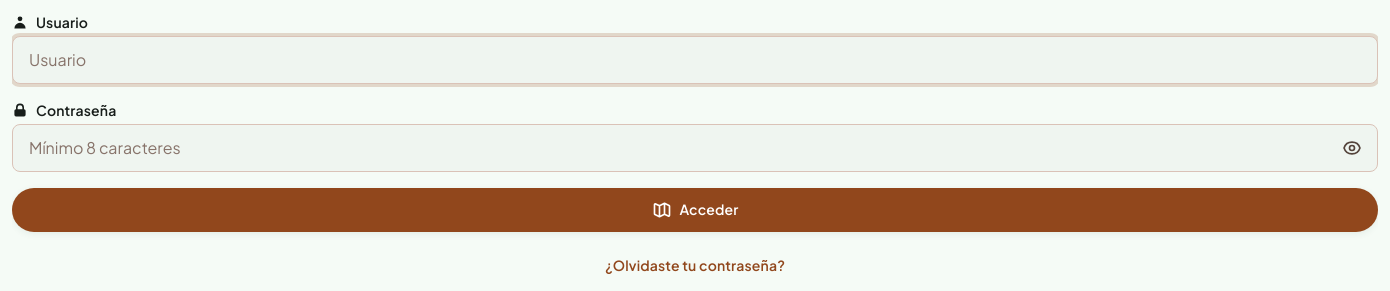
Test: LoginForm › permite mostrar/ocultar contraseña
Type "password123" into the password field with placeholder "Mínimo 8 caracteres" at (695, 148), box [12,124,1378,172]
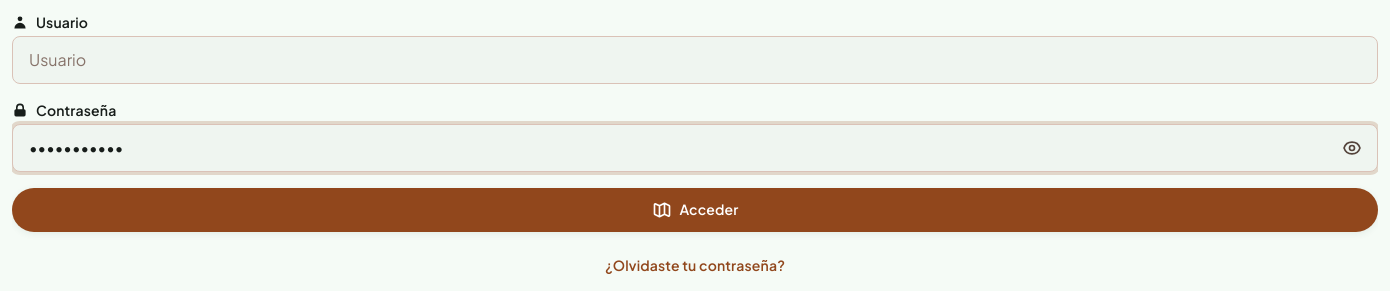
// Hacer clic para mostrar
Click the button named "mostrar contraseña" at (1352, 148), box [1334,130,1370,166]
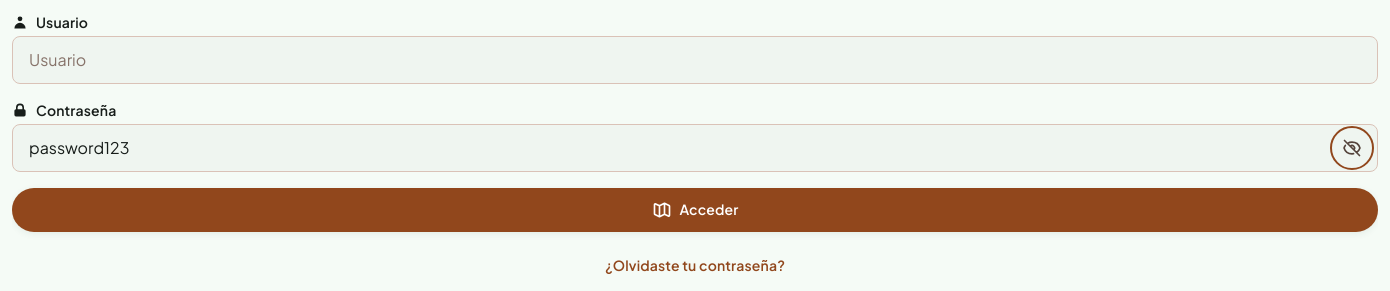
Now the field with placeholder "Mínimo 8 caracteres" shows its text, box [12,124,1378,172]
// Hacer clic para ocultar (ahora el aria-label cambió)
Click the button named "ocultar contraseña" at (1352, 148), box [1334,130,1370,166]
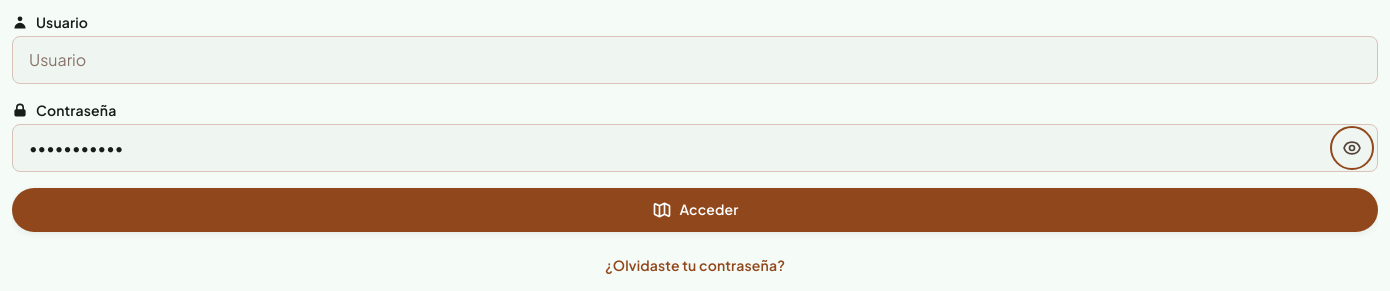
Now the password field with placeholder "Mínimo 8 caracteres" hides its text, box [12,124,1378,172]
